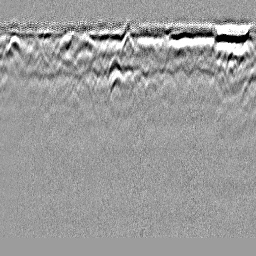cavity: (121, 30, 135, 54)
